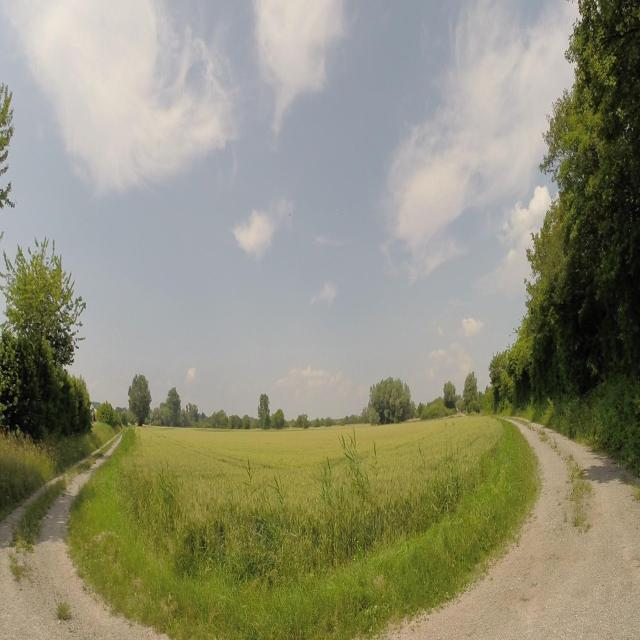drone: (286, 206, 294, 222)
